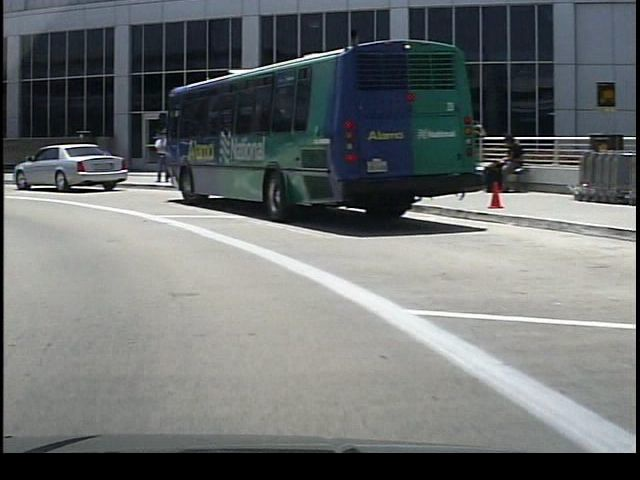person: (479, 130, 522, 195), (147, 129, 167, 185)
